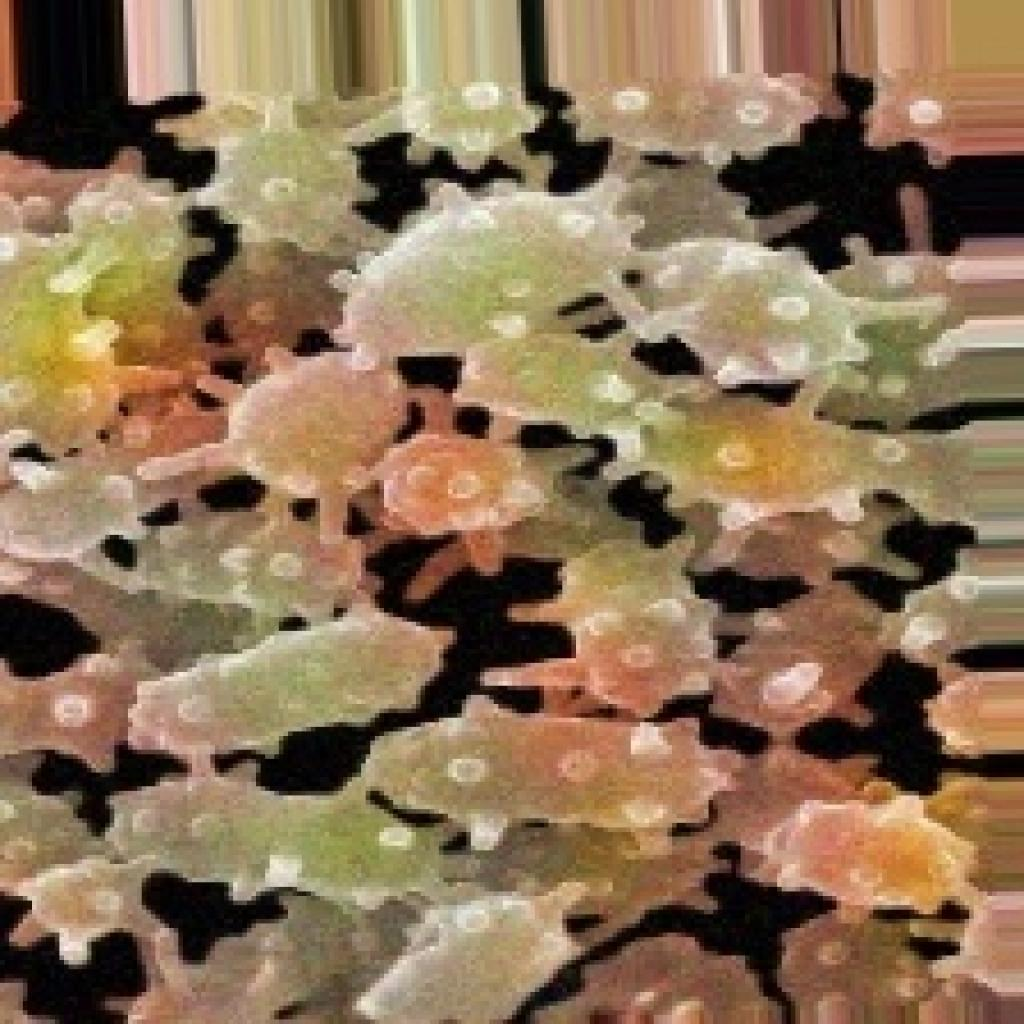Rodbacteria: (0, 68, 1019, 1019)
